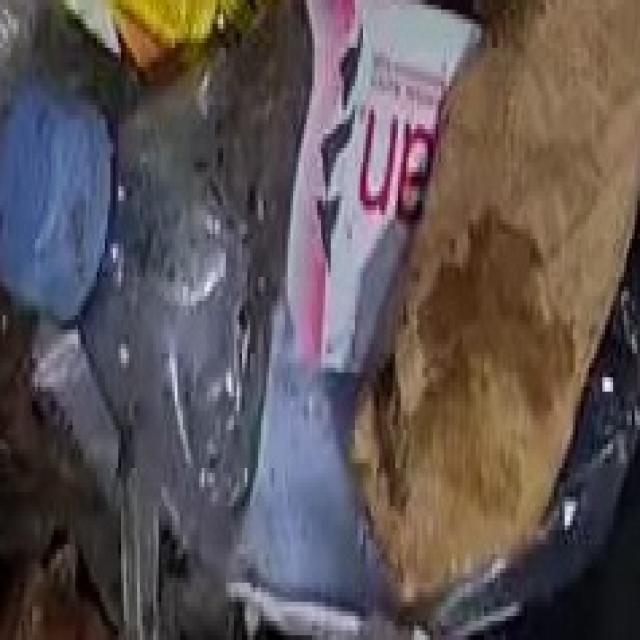litter: (0, 52, 627, 544)
